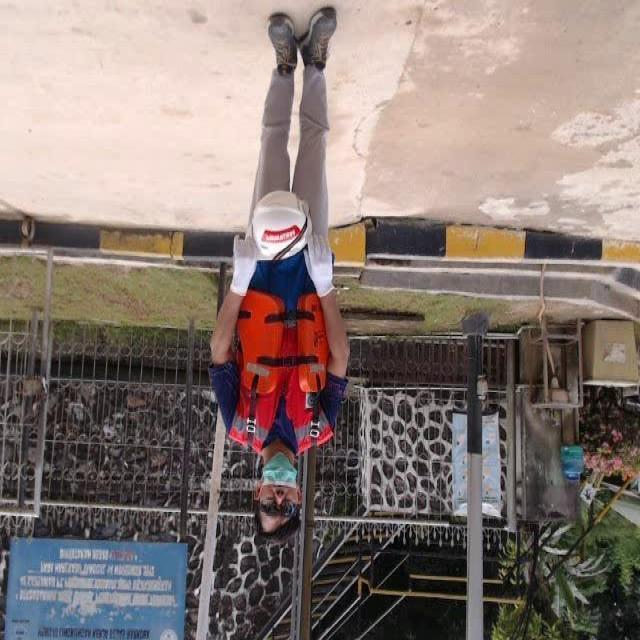Boots: (298, 5, 341, 73), (268, 15, 300, 77)
Gloves: (221, 234, 265, 296), (301, 232, 342, 298)
Helmet: (241, 188, 319, 268)
Vest: (227, 254, 337, 458)
